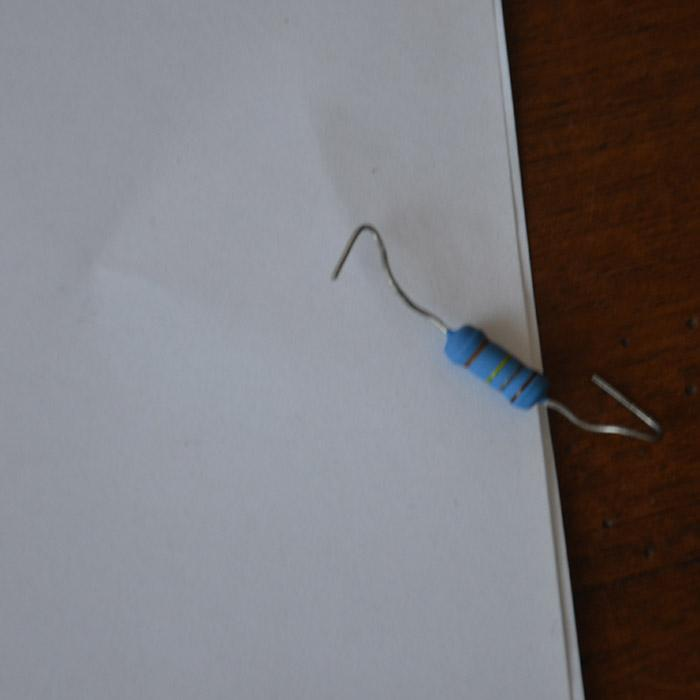resistor: (443, 322, 548, 410)
